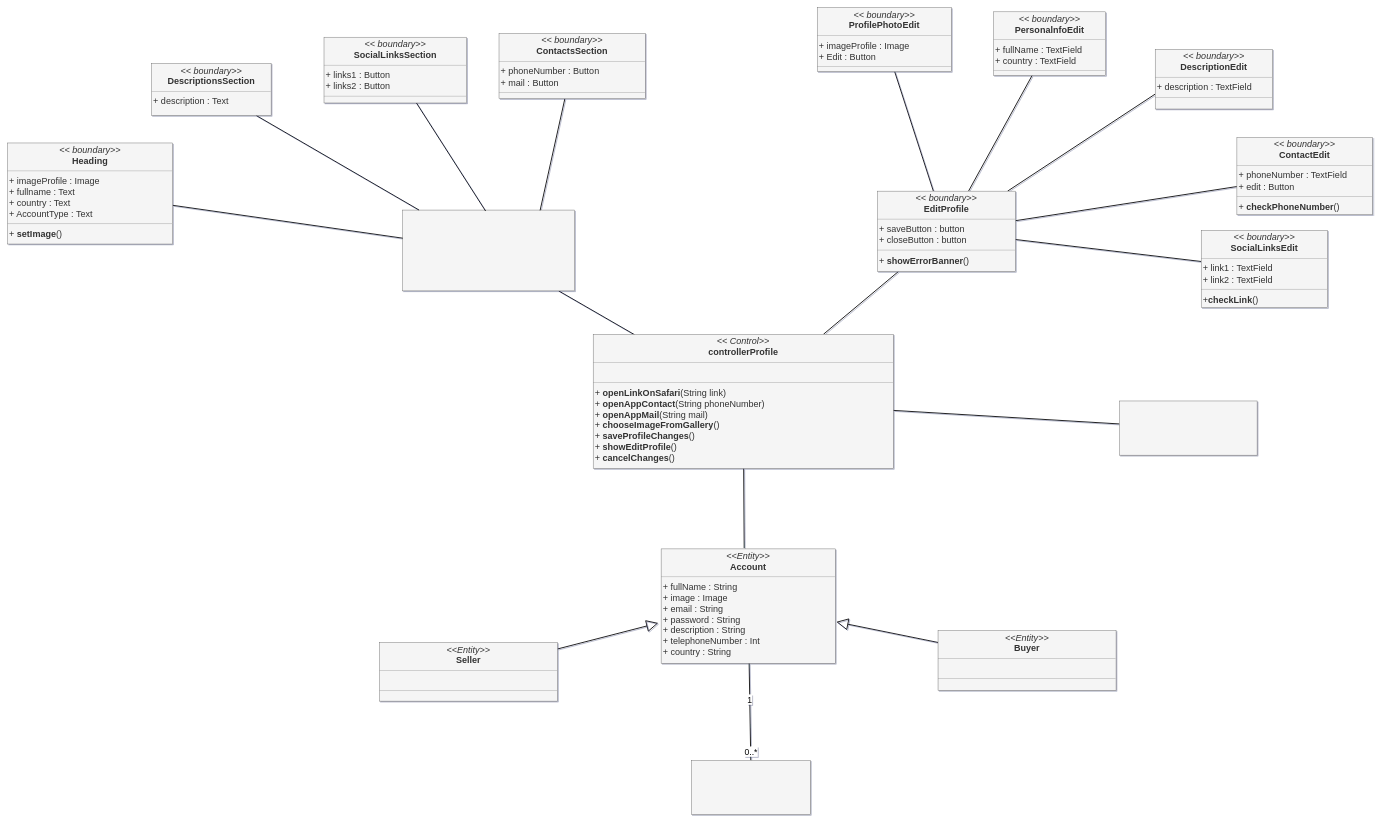
Some shapes in this 1382 by 825 pixel diagram are drawn without their labels. The box of each missing label's shape, as (x1, y1, x2, y2) in pixels:
<< boundary >> feedbackOnSave + message : Text: (1119, 401, 1257, 455)
<< boundary >> Profile + editProfile : button + showErrorBanner (): (402, 210, 575, 291)
<<Entity>> SocialLink + link : String: (691, 760, 810, 815)
